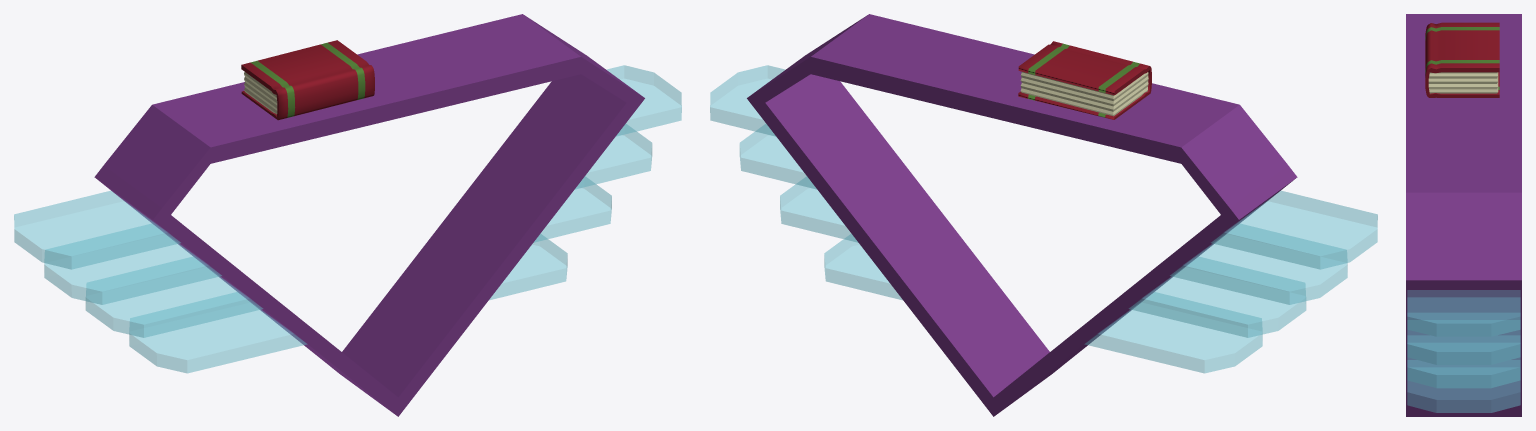
The model's file is shelves_tier19.fbx.
3 views of the same model, side by side, from view 1: azimuth 30°, elevation 25°; view 2: azimuth 150°, elevation 25°; view 3: azimuth 270°, elevation 25° (orthographic).
Visible parts, largest first — view 1: Cube, Cube.009, Cube.005, Cube.007, Cube.002, Cube.003, Cube.001, Cube.008, Cube.006, Cube.004; view 2: Cube, Cube.009, Cube.005, Cube.007, Cube.002, Cube.003, Cube.001, Cube.008, Cube.006, Cube.004; view 3: Cube, Cube.003, Cube.001, Cube.006, Cube.008, Cube.004.
Part boxes in pixels (left/top/right/bottom): Cube: left=94, top=14, right=644, bottom=416; Cube.009: left=129, top=292, right=307, bottom=373; Cube.005: left=44, top=224, right=221, bottom=304; Cube.007: left=85, top=257, right=262, bottom=337; Cube.002: left=14, top=190, right=180, bottom=269; Cube.003: left=241, top=40, right=374, bottom=120; Cube.001: left=606, top=65, right=681, bottom=136; Cube.008: left=489, top=234, right=567, bottom=300; Cube.006: left=534, top=176, right=611, bottom=242; Cube.004: left=575, top=124, right=652, bottom=189; Cube: left=747, top=14, right=1297, bottom=416; Cube.009: left=1084, top=292, right=1262, bottom=373; Cube.005: left=1170, top=224, right=1347, bottom=304; Cube.007: left=1129, top=257, right=1306, bottom=337; Cube.002: left=1211, top=190, right=1377, bottom=269; Cube.003: left=1018, top=41, right=1151, bottom=119; Cube.001: left=710, top=65, right=785, bottom=136; Cube.008: left=824, top=234, right=902, bottom=300; Cube.006: left=780, top=176, right=857, bottom=242; Cube.004: left=739, top=124, right=816, bottom=189; Cube: left=1406, top=14, right=1521, bottom=416; Cube.003: left=1425, top=22, right=1499, bottom=97; Cube.001: left=1407, top=290, right=1520, bottom=336; Cube.006: left=1407, top=342, right=1520, bottom=388; Cube.008: left=1407, top=367, right=1520, bottom=412; Cube.004: left=1407, top=320, right=1520, bottom=364.
Size of the model in its own units: 315 by 163 by 49.9.
